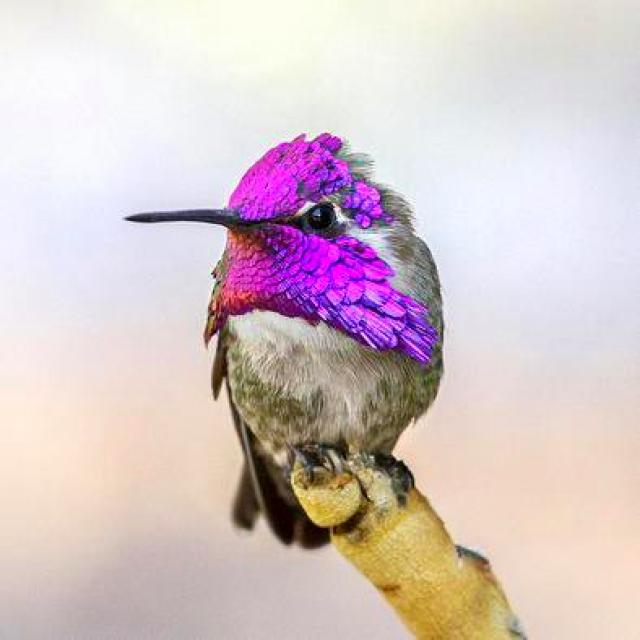hummingbird: (127, 133, 442, 546)
